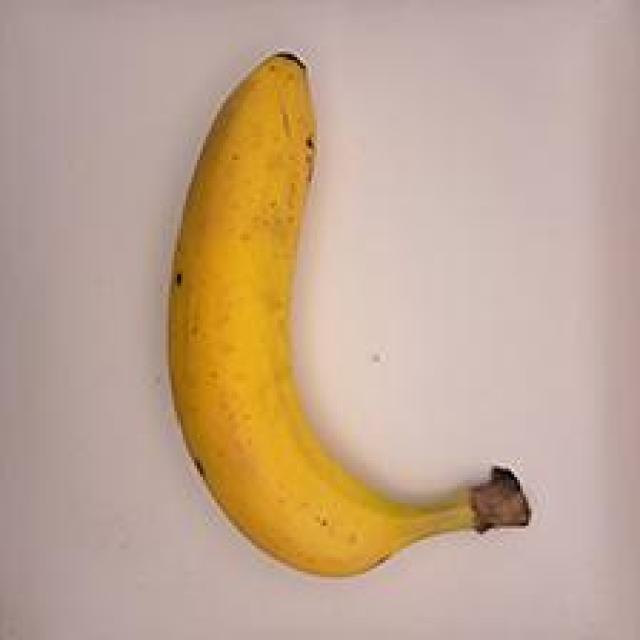ripe: (148, 43, 535, 591)
